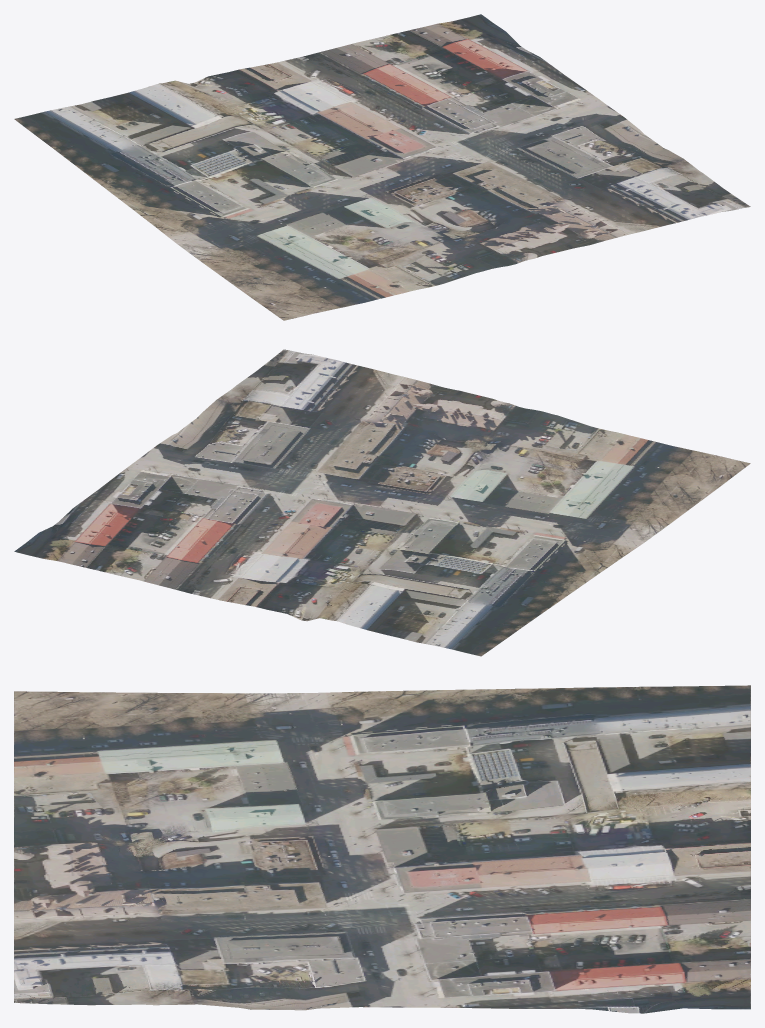
File: CM_Terrain_24486773_6821022.fbx
3 views of the same model, one above another, from view 1: azimuth 30°, elevation 25°; view 2: azimuth 150°, elevation 25°; view 3: azimuth 270°, elevation 25° (orthographic). The views are drawn at different scales.
Visible parts, largest first — view 1: CM_Terrain_24486773_6821022_LOD0; view 2: CM_Terrain_24486773_6821022_LOD0; view 3: CM_Terrain_24486773_6821022_LOD0.
Boxes of the visible parts, box(x1,y1,x2,y2) form: CM_Terrain_24486773_6821022_LOD0: box(14, 14, 750, 320); CM_Terrain_24486773_6821022_LOD0: box(14, 349, 750, 656); CM_Terrain_24486773_6821022_LOD0: box(14, 685, 750, 1013).
Size of what is drawn, in the model's own units: 205 by 5.7 by 205.
